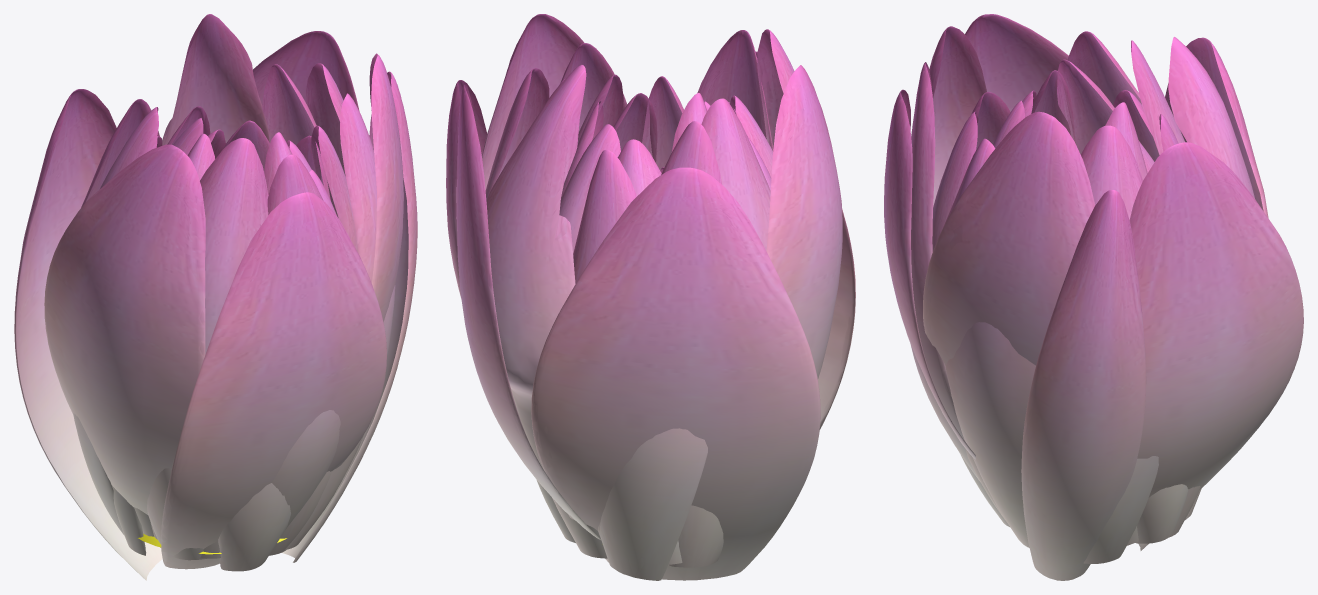
Rendered from lotus3_compressed.glb.
3 renders of one model, left to right at view 1: azimuth 30°, elevation 25°; view 2: azimuth 150°, elevation 25°; view 3: azimuth 270°, elevation 25°, orthographic. The views are drawn at different scales.
Parts seen in each view (by area): view 1: Mesh_78.002, Mesh_73.002, Mesh_76.002, Mesh_74.002, Mesh_80.002, Mesh_72.002, Mesh_50.002, Mesh_63.002, Mesh_64.002, Mesh_70.002, Mesh_56.002, Mesh_65.002 (+12 smaller); view 2: Mesh_76.002, Mesh_80.002, Mesh_73.002, Mesh_61.002, Mesh_56.002, Mesh_65.002, Mesh_72.002, Mesh_66.002, Mesh_64.002, Mesh_78.002, Mesh_62.002, Mesh_50.002 (+10 smaller); view 3: Mesh_56.002, Mesh_50.002, Mesh_72.002, Mesh_63.002, Mesh_64.002, Mesh_62.002, Mesh_78.002, Mesh_80.002, Mesh_73.002, Mesh_74.002, Mesh_83.002, Mesh_76.002 (+8 smaller).
Part boxes in pixels (box(x1,y1,x2,y2)): Mesh_78.002: box(161, 192, 386, 569); Mesh_73.002: box(44, 144, 205, 514); Mesh_76.002: box(14, 89, 162, 580); Mesh_74.002: box(172, 138, 268, 468); Mesh_80.002: box(162, 14, 269, 145); Mesh_72.002: box(369, 53, 403, 321); Mesh_50.002: box(281, 71, 417, 562); Mesh_63.002: box(285, 93, 395, 549); Mesh_64.002: box(267, 154, 340, 529); Mesh_70.002: box(218, 194, 290, 571); Mesh_56.002: box(253, 31, 359, 129); Mesh_65.002: box(73, 107, 158, 534); Mesh_76.002: box(531, 167, 820, 580); Mesh_80.002: box(486, 65, 607, 558); Mesh_73.002: box(766, 65, 842, 378); Mesh_61.002: box(599, 121, 721, 580); Mesh_56.002: box(456, 83, 601, 540); Mesh_65.002: box(669, 98, 770, 567); Mesh_72.002: box(482, 14, 584, 189); Mesh_66.002: box(573, 150, 636, 538); Mesh_64.002: box(697, 30, 773, 151); Mesh_78.002: box(755, 51, 855, 429); Mesh_62.002: box(485, 68, 549, 200); Mesh_50.002: box(446, 80, 486, 297); Mesh_56.002: box(1129, 142, 1303, 497); Mesh_50.002: box(1021, 190, 1146, 580); Mesh_72.002: box(923, 111, 1095, 365); Mesh_63.002: box(945, 322, 1035, 547); Mesh_64.002: box(910, 62, 979, 480); Mesh_62.002: box(1081, 125, 1158, 563); Mesh_78.002: box(884, 89, 975, 459); Mesh_80.002: box(1168, 37, 1254, 537); Mesh_73.002: box(965, 14, 1068, 111); Mesh_74.002: box(929, 26, 986, 205); Mesh_83.002: box(1105, 102, 1188, 543); Mesh_76.002: box(1138, 37, 1268, 550).
Bounding box in the file's own units: 5.73 × 7.41 × 5.33.
2 materials, 2 textured.
